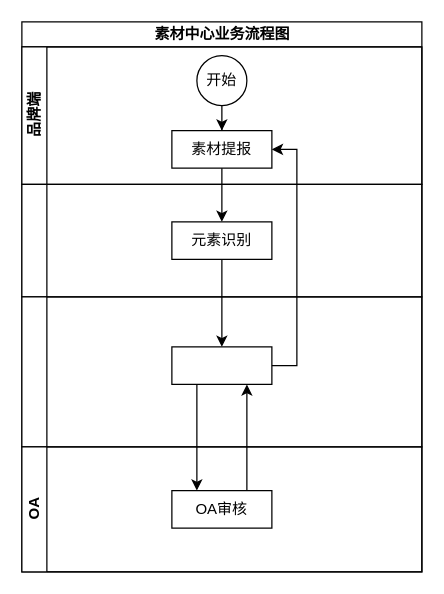
The diagram is 444 pixels wide and 594 high, and some of its shapes have lost their labels. Each missing label, with the box of its shape:
算法: (21, 183, 422, 297)
运营审核: (171, 346, 272, 384)
运营端: (21, 296, 422, 447)
